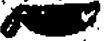Basket: (1, 1, 103, 40)
